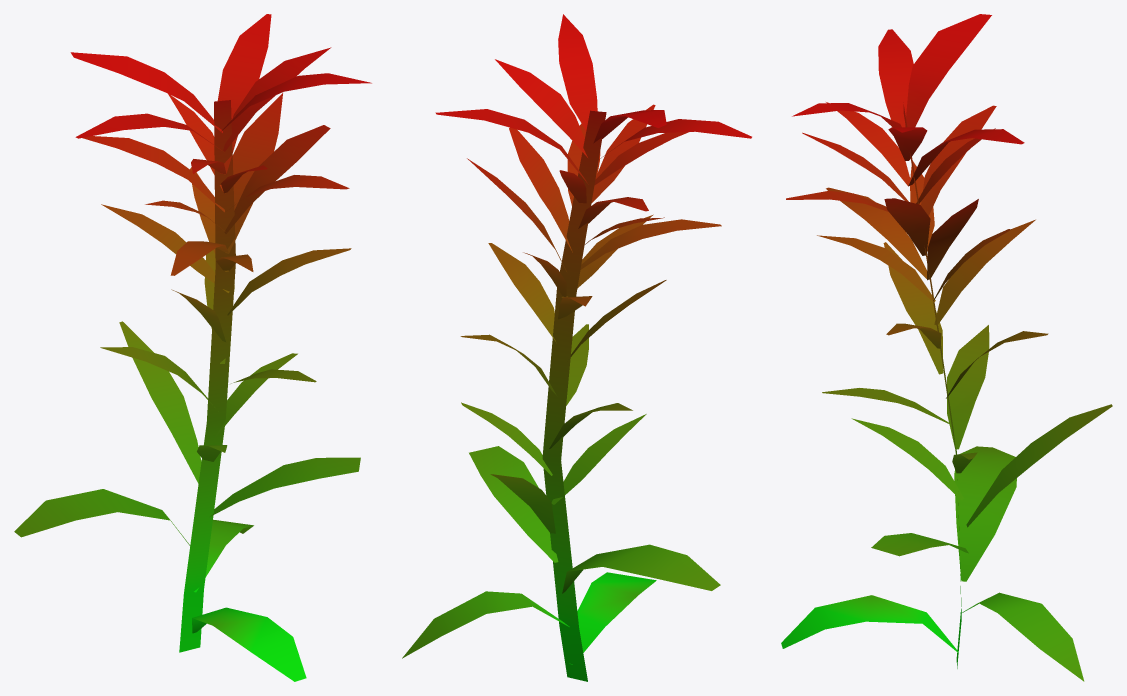
Rendered from Goldenrods_LOD5_Var8.fbx.
3 views of the same model, side by side, from view 1: azimuth 30°, elevation 25°; view 2: azimuth 150°, elevation 25°; view 3: azimuth 270°, elevation 25° (orthographic). The views are drawn at different scales.
Parts seen in each view (by area): view 1: _ax4k_Var8_LOD5; view 2: _ax4k_Var8_LOD5; view 3: _ax4k_Var8_LOD5.
Part boxes in pixels (x1,y1,x2,y2): _ax4k_Var8_LOD5: (14, 14, 371, 681); _ax4k_Var8_LOD5: (402, 14, 751, 681); _ax4k_Var8_LOD5: (781, 14, 1112, 681).
Bounding box in the file's own units: 32.39 × 62.76 × 31.41.
